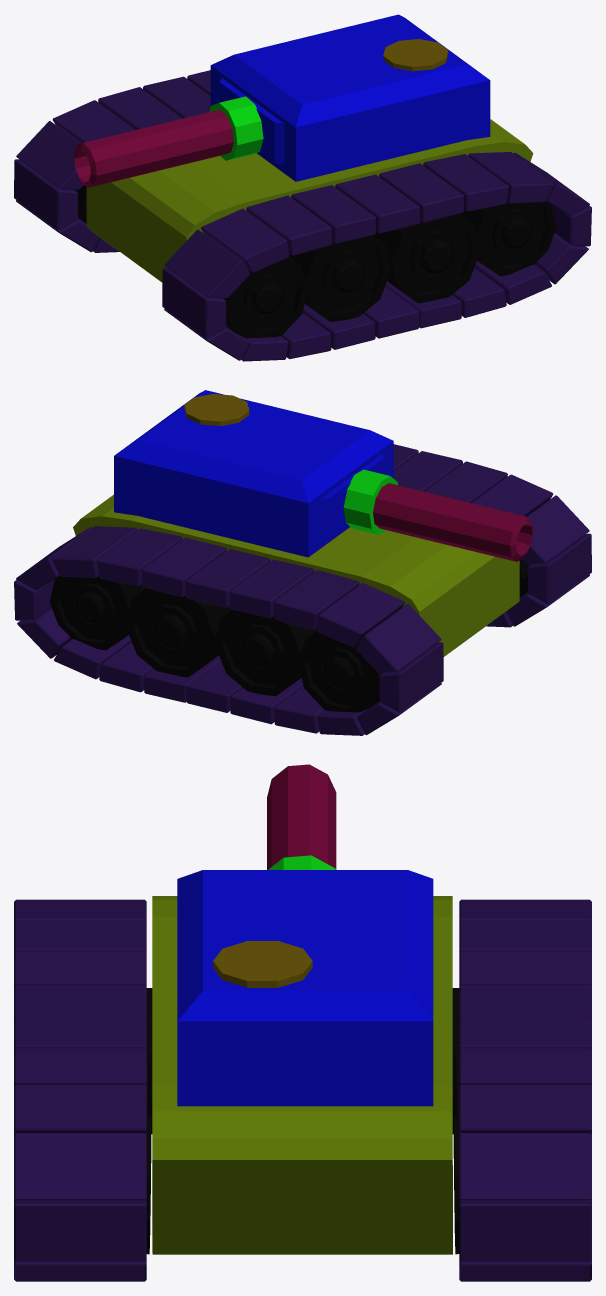
The model's file is tank.obj.
3 renders of one model, top to bottom at view 1: azimuth 30°, elevation 25°; view 2: azimuth 150°, elevation 25°; view 3: azimuth 270°, elevation 25°, orthographic. The views are drawn at different scales.
Parts seen in each view (by area): view 1: Cube, Cube.002, Cylinder, Cube.001, Cylinder.003, Cylinder.001, Cylinder.004; view 2: Cube, Cube.002, Cylinder, Cube.001, Cylinder.003, Cylinder.001, Cylinder.004; view 3: Cube, Cube.002, Cube.001, Cylinder.003, Cylinder.004, Cylinder, Cylinder.001.
Boxes of the visible parts, box(x1,y1,x2,y2) form: Cube: box(14, 70, 591, 361); Cube.002: box(210, 14, 490, 181); Cylinder: box(75, 185, 556, 338); Cube.001: box(86, 119, 533, 282); Cylinder.003: box(73, 109, 233, 187); Cylinder.001: box(209, 96, 263, 160); Cylinder.004: box(383, 39, 448, 71); Cube: box(14, 444, 591, 735); Cube.002: box(114, 390, 393, 557); Cylinder: box(49, 559, 530, 712); Cube.001: box(73, 494, 519, 656); Cylinder.003: box(373, 483, 532, 561); Cylinder.001: box(343, 469, 397, 534); Cylinder.004: box(184, 394, 249, 426); Cube: box(14, 899, 591, 1281); Cube.002: box(177, 870, 433, 1106); Cube.001: box(152, 896, 452, 1254); Cylinder.003: box(267, 764, 336, 869); Cylinder.004: box(213, 941, 312, 987); Cylinder: box(146, 988, 459, 1254); Cylinder.001: box(268, 855, 335, 869).
Size of the model in its own units: 7.59 by 3.45 by 6.1.
